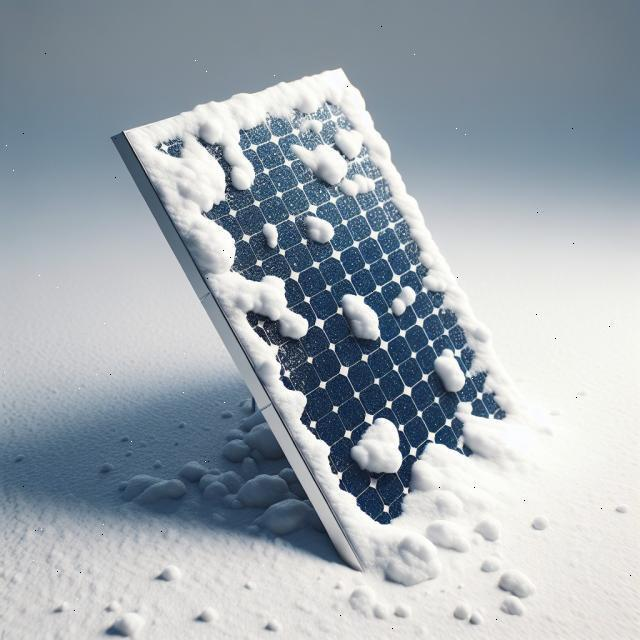Anomaly Solar Panel: (117, 23, 573, 589)
Snow: (117, 22, 572, 587), (155, 58, 527, 536), (283, 127, 378, 207), (348, 413, 405, 473), (334, 285, 385, 348), (426, 344, 469, 394), (296, 209, 338, 247), (384, 282, 420, 318), (262, 220, 277, 248), (299, 116, 323, 132)
